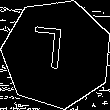L_S: (39, 27, 75, 80)
